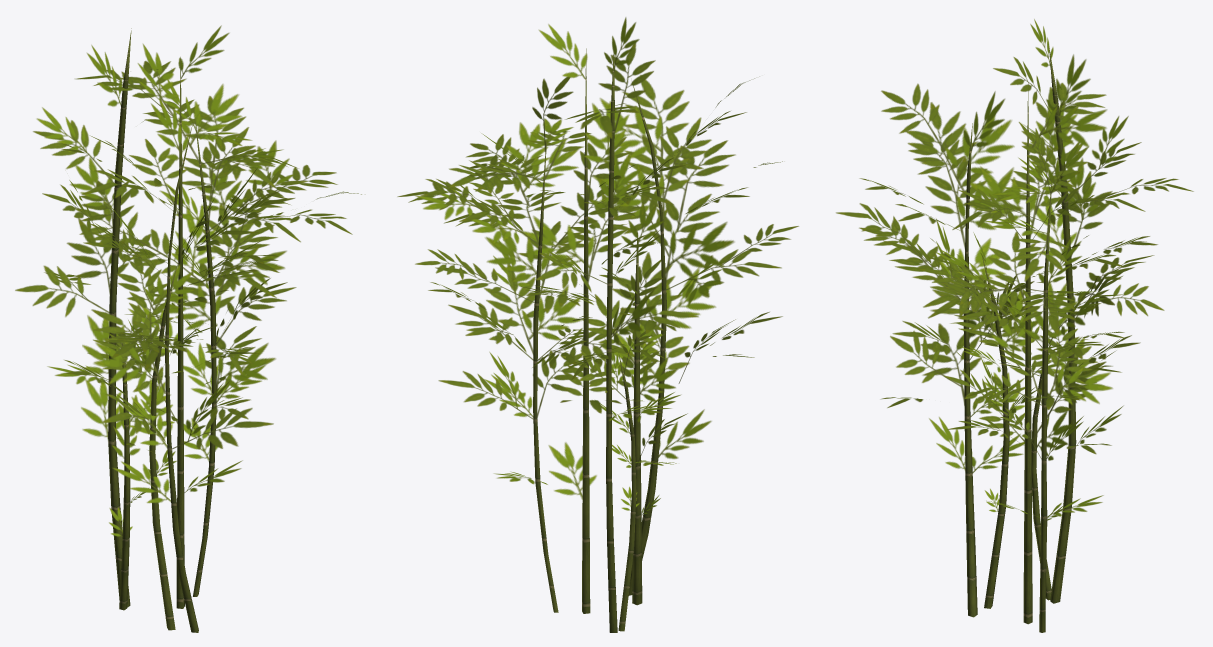
The picture shows the model from 3 angles, left to right: view 1: azimuth 30°, elevation 25°; view 2: azimuth 150°, elevation 25°; view 3: azimuth 270°, elevation 25°; orthographic projection. The views are drawn at different scales.
Visible parts, largest first — view 1: um_t1_pl033_model_lod0Shape; view 2: um_t1_pl033_model_lod0Shape; view 3: um_t1_pl033_model_lod0Shape.
Part boxes in pixels (x1,y1,x2,y2): um_t1_pl033_model_lod0Shape: (15, 25, 361, 632); um_t1_pl033_model_lod0Shape: (397, 17, 798, 632); um_t1_pl033_model_lod0Shape: (836, 19, 1193, 632).
Bounding box in the file's own units: 5.04 × 8.78 × 4.97.
Materials: 2 (2 with a texture image).
